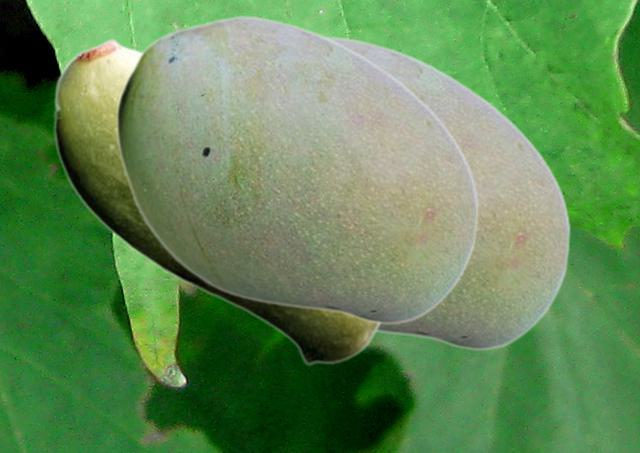green_mango: (115, 14, 478, 324), (53, 37, 383, 365), (326, 35, 570, 350)
